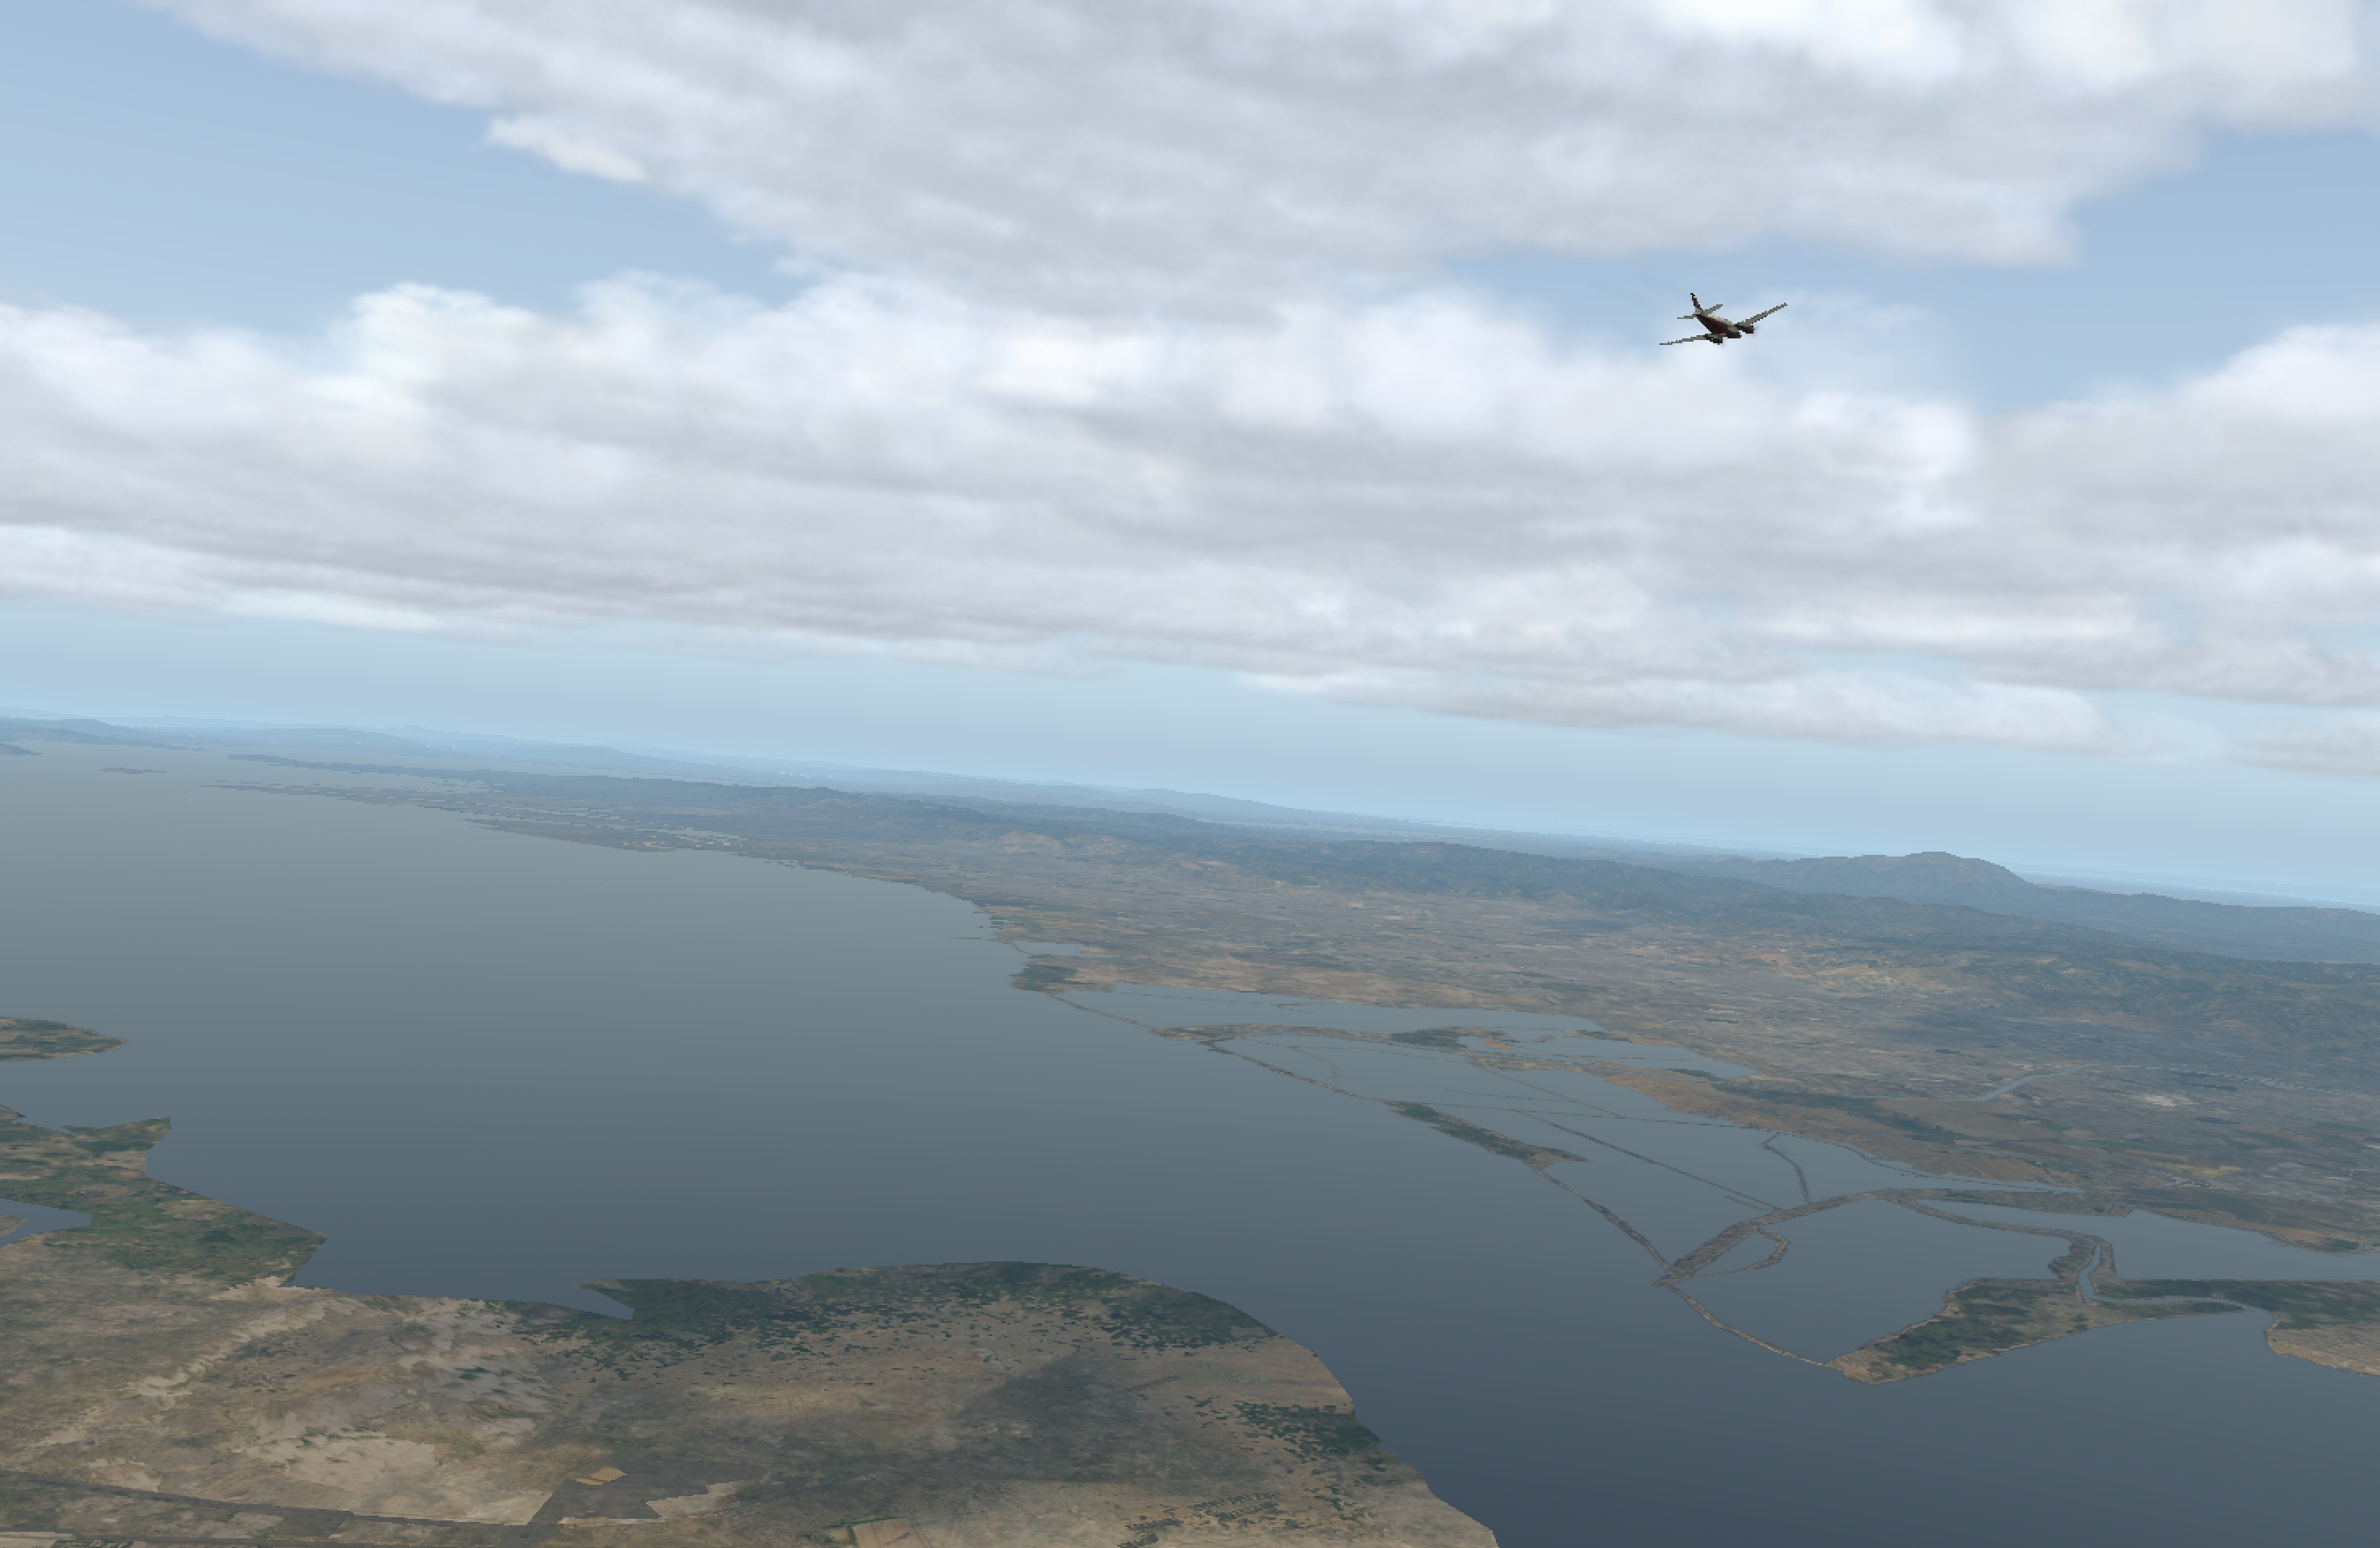aircraft: (1660, 309, 1792, 359)
